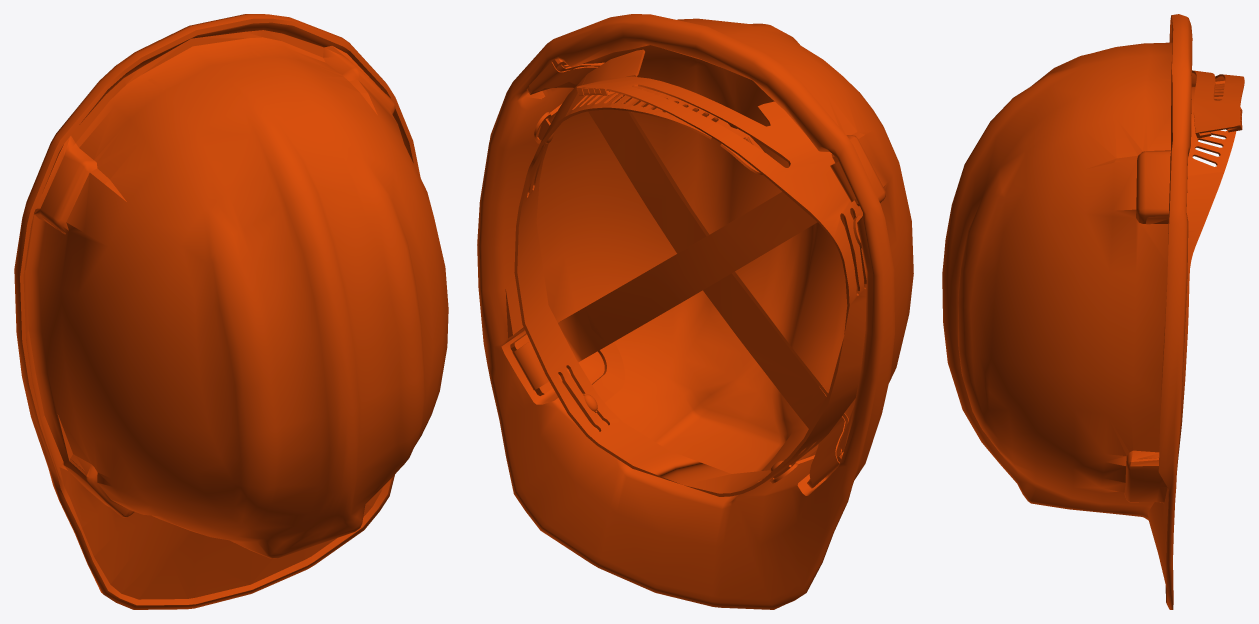
File: 安全帽.FBX
3 views of the same model, side by side, from view 1: azimuth 30°, elevation 25°; view 2: azimuth 150°, elevation 25°; view 3: azimuth 270°, elevation 25° (orthographic). The views are drawn at different scales.
Parts seen in each view (by area): view 1: pp0909; view 2: pp0909; view 3: pp0909.
Part boxes in pixels (<box>): pp0909: <box>14,14,448,609</box>; pp0909: <box>477,14,913,609</box>; pp0909: <box>942,14,1244,609</box>.
Bounding box in the file's own units: 123 × 166 × 84.09.
